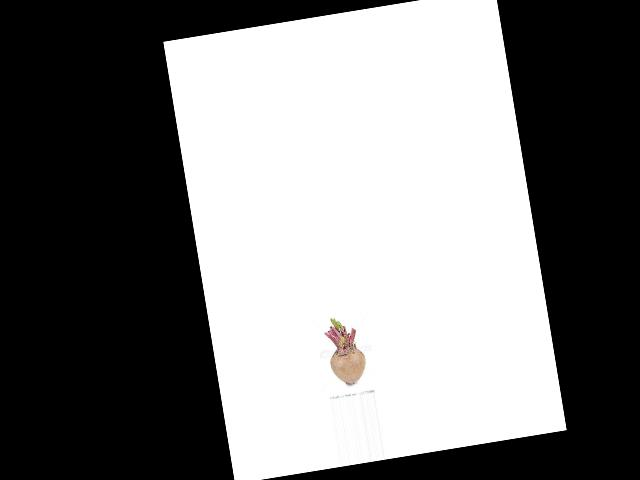beet: (322, 314, 369, 387)
